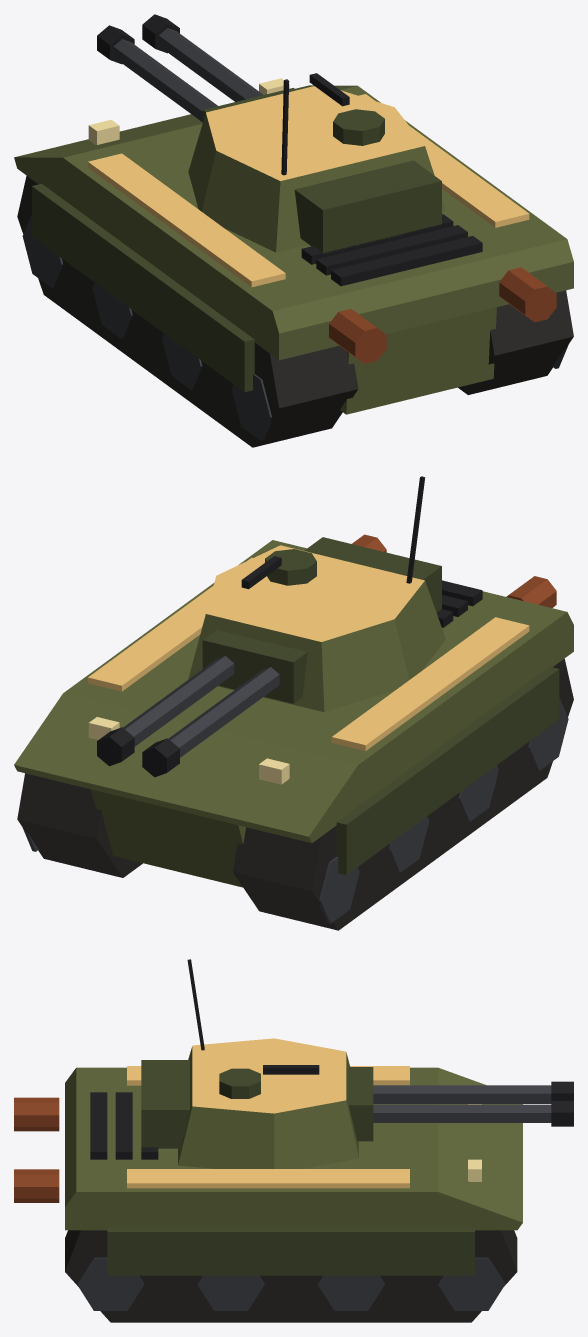
Rendered from tank_heavy.glb.
3 renders of one model, top to bottom at view 1: azimuth 30°, elevation 25°; view 2: azimuth 150°, elevation 25°; view 3: azimuth 270°, elevation 25°, orthographic. The views are drawn at different scales.
Visible parts, largest first — view 1: tank_heavy, Turret; view 2: tank_heavy, Turret; view 3: tank_heavy, Turret.
Part boxes in pixels (x1,y1,x2,y2): tank_heavy: (14, 78, 573, 447); Turret: (97, 14, 445, 253); tank_heavy: (14, 534, 573, 930); Turret: (97, 476, 445, 777); tank_heavy: (14, 1066, 522, 1322); Turret: (141, 959, 573, 1168).
Size of the model in its own units: 1.11 by 1.06 by 1.98.
